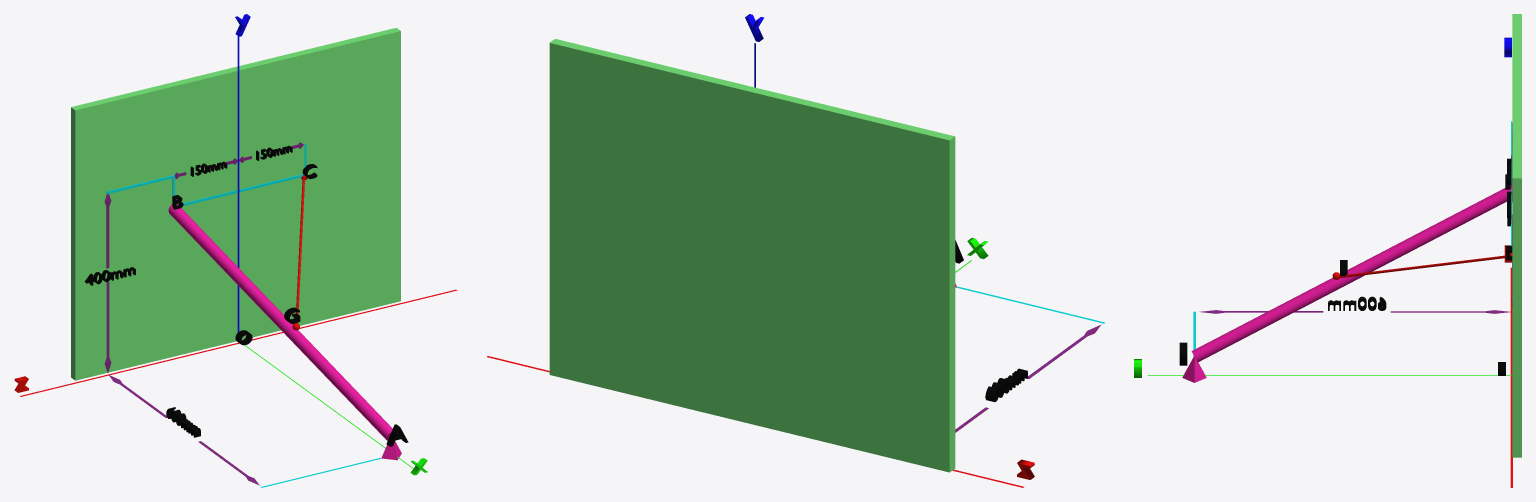
Rendered from Mech003Q2.glb.
3 renders of one model, left to right at view 1: azimuth 30°, elevation 25°; view 2: azimuth 150°, elevation 25°; view 3: azimuth 270°, elevation 25°, orthographic. The views are drawn at different scales.
Parts seen in each view (by area): view 1: Plane, Cylinder, Plane.002, Plane.008; view 2: Plane, Text.005; view 3: Cylinder, Plane, Plane.008, Cylinder.001, Text.005.
Part boxes in pixels (<box>): Plane: <box>71,27,400,380</box>; Cylinder: <box>168,204,392,440</box>; Plane.002: <box>237,36,239,332</box>; Plane.008: <box>20,289,457,396</box>; Plane: <box>549,39,955,472</box>; Text.005: <box>985,368,1027,401</box>; Cylinder: <box>1191,185,1512,362</box>; Plane: <box>1512,14,1521,457</box>; Plane.008: <box>1510,267,1512,487</box>; Cylinder.001: <box>1338,255,1505,278</box>; Text.005: <box>1328,296,1386,310</box>.
Bounding box in the file's own units: 1.01 × 0.7163 × 0.7435.
